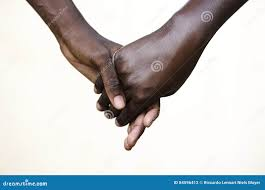no-gloves: (79, 29, 185, 151)
